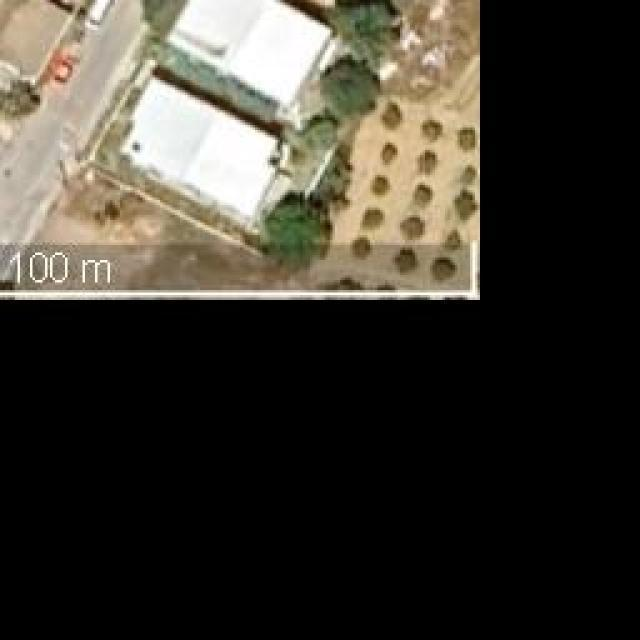Tree: (243, 193, 333, 273), (318, 57, 377, 114), (388, 247, 418, 275), (453, 190, 478, 223), (400, 212, 425, 240), (357, 210, 385, 233), (415, 150, 438, 175), (370, 175, 393, 200), (433, 258, 458, 281), (380, 105, 403, 130), (458, 128, 478, 153), (413, 183, 433, 208), (423, 120, 443, 143), (380, 143, 398, 166), (353, 238, 368, 258)
